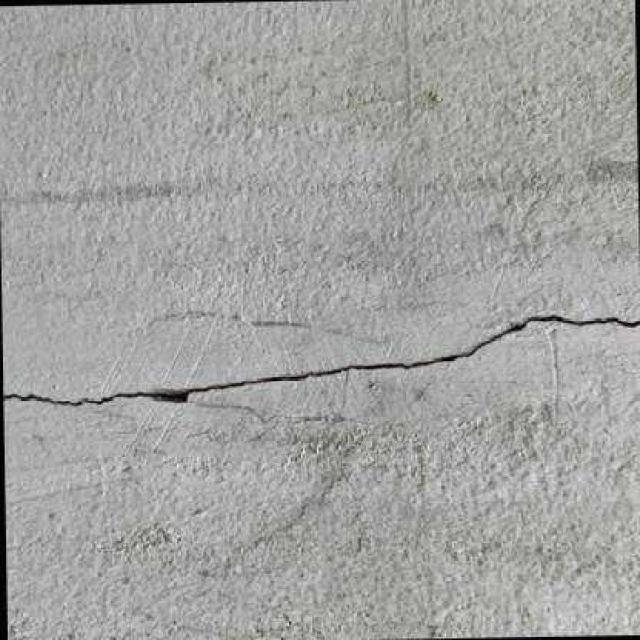D00: (1, 315, 640, 406)
